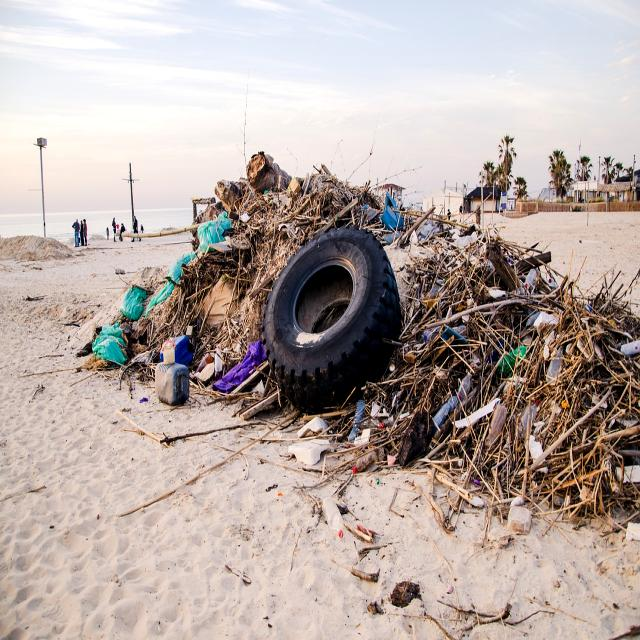Garbage: (67, 134, 640, 579)
